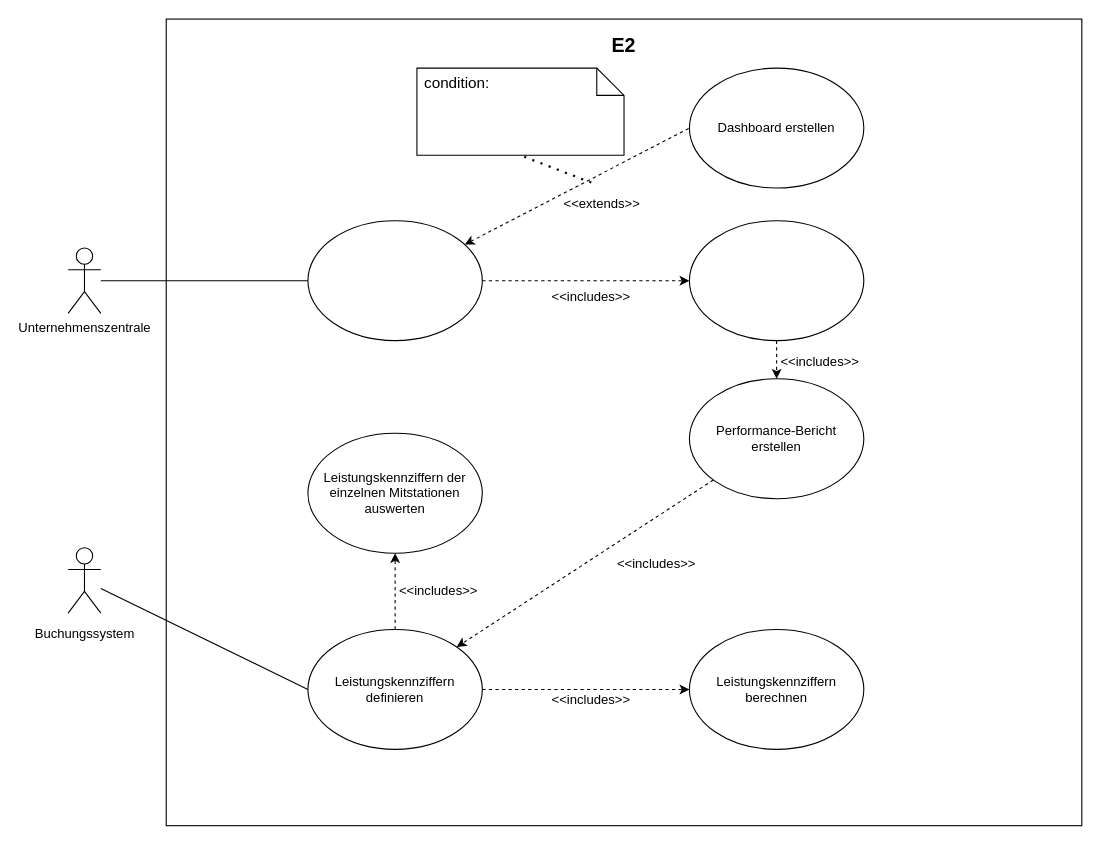
Some shapes in this 1101 by 845 pixel diagram are drawn without their labels. The centre of each missing label's shape, as x and y in pixels:
"Performance-Bericht auf Dashboard darstellen" goes at point (776, 280).
"Performance-Dashboard erstellen" goes at point (394, 280).
"{noch kein Dashboard vorhanden}" goes at point (520, 111).
